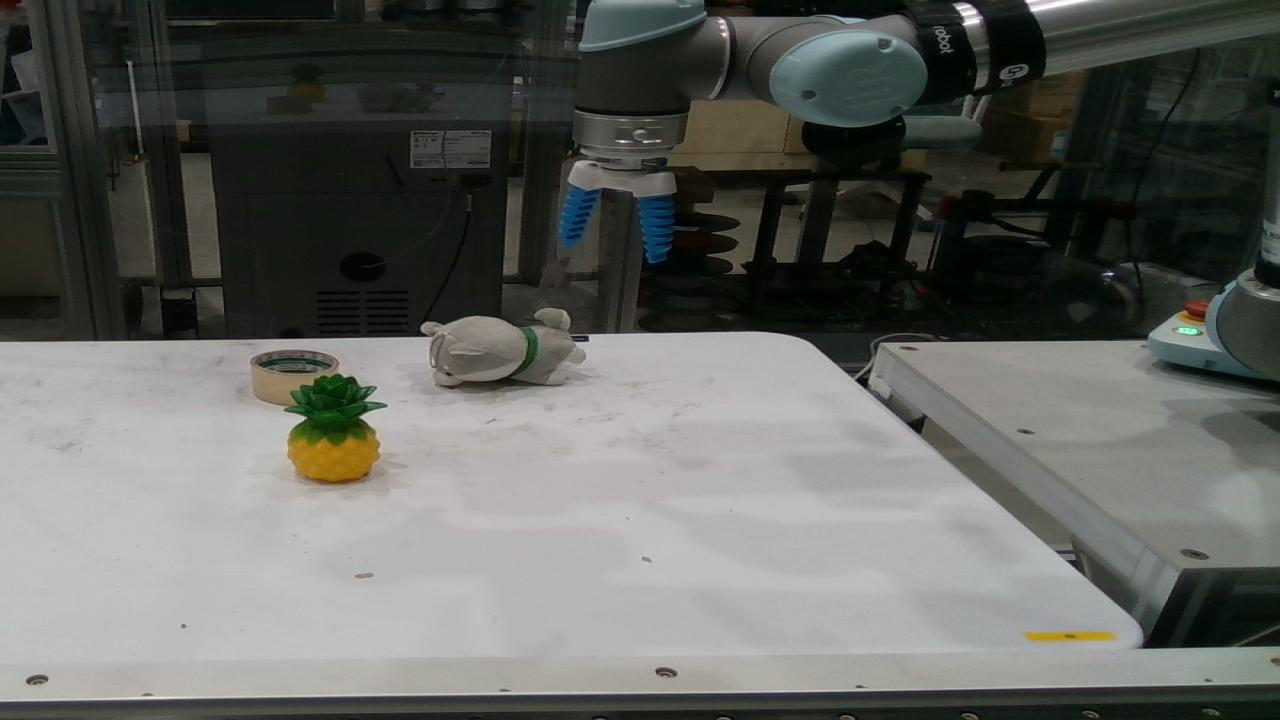UR5: (569, 0, 1279, 197), (1212, 157, 1279, 368)
gripper_left: (560, 186, 598, 248)
gripper_right: (640, 195, 672, 263)
target: (422, 308, 585, 386), (285, 374, 384, 482), (252, 350, 337, 404)
